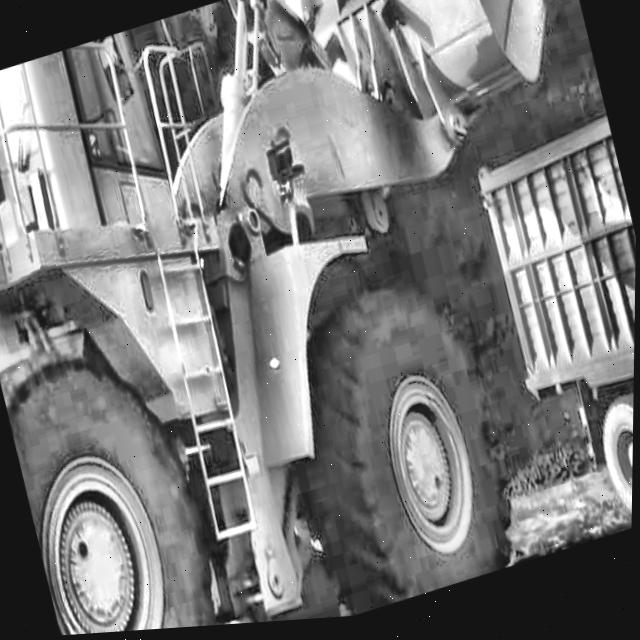buldozerpayloadergrader: (0, 0, 640, 640)
dump_truck: (431, 0, 640, 564)
